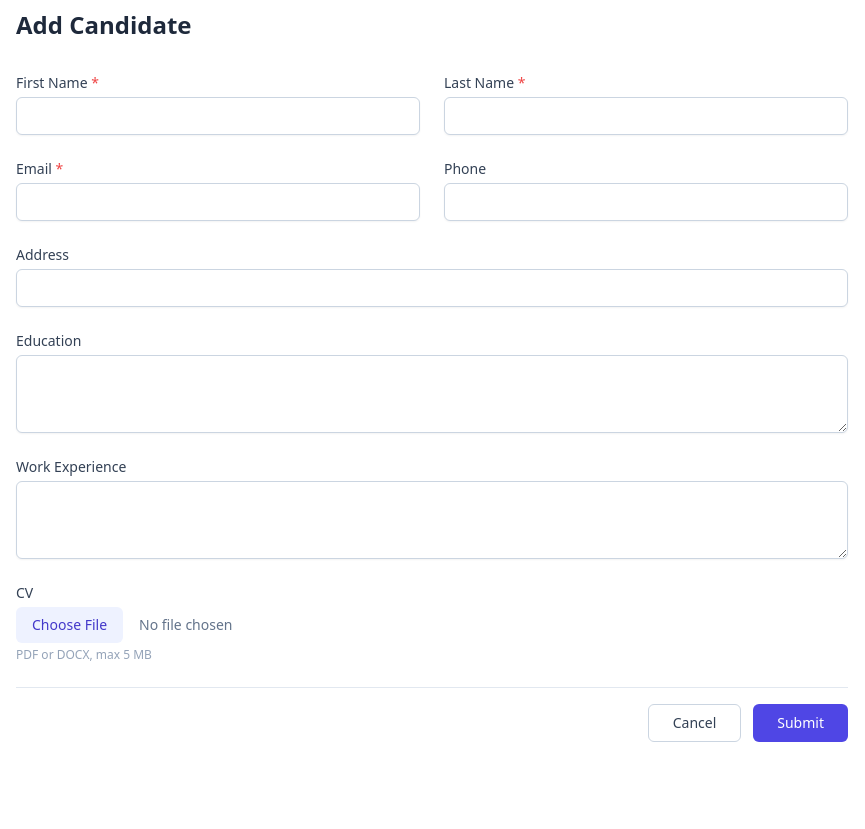
Test: AddCandidate submission › shows error message without raw details on server error
In the field labelled "First Name *": coordinates (218, 116) [16,97,420,135], type "Alice"
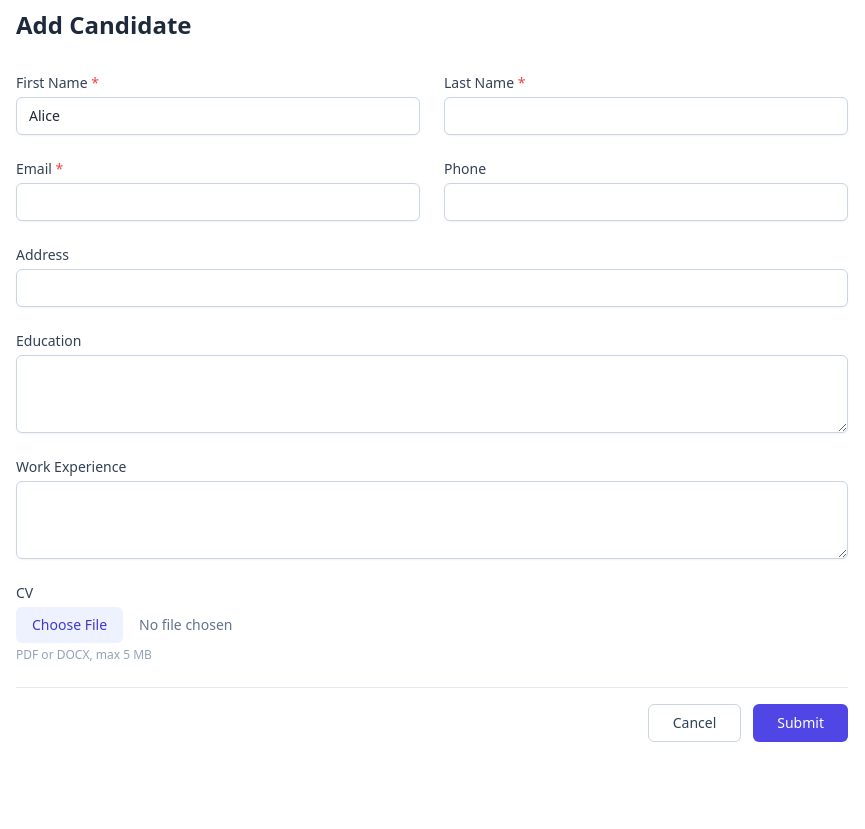
In the field labelled "Last Name *": coordinates (646, 116) [444,97,848,135], type "Smith"
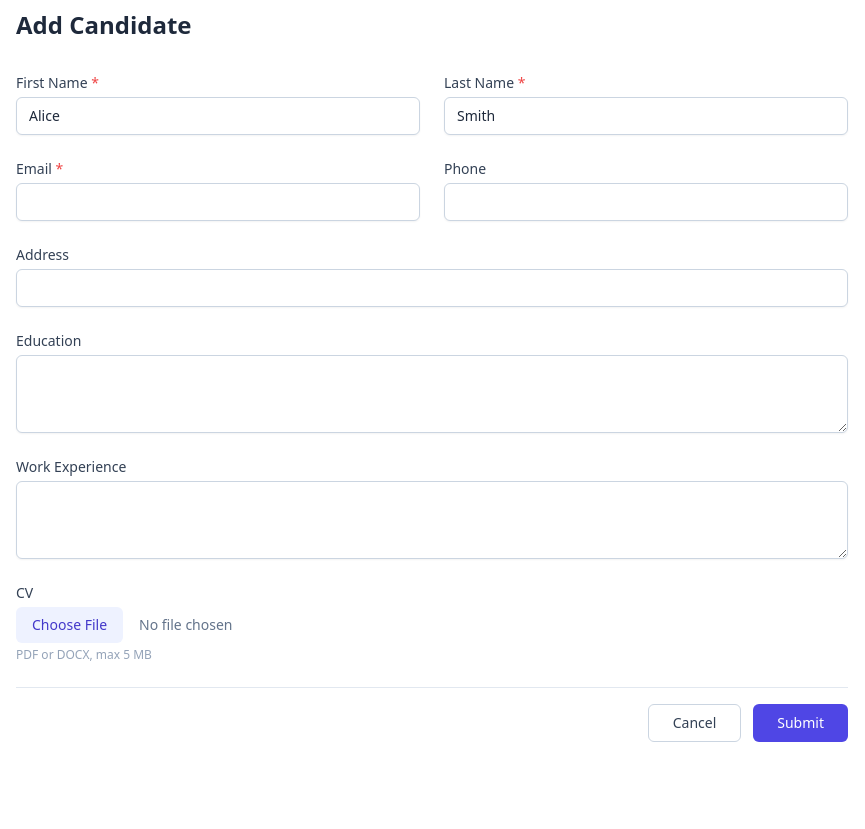
In the field labelled "Email *": coordinates (218, 202) [16,183,420,221], type "alice@example.com"
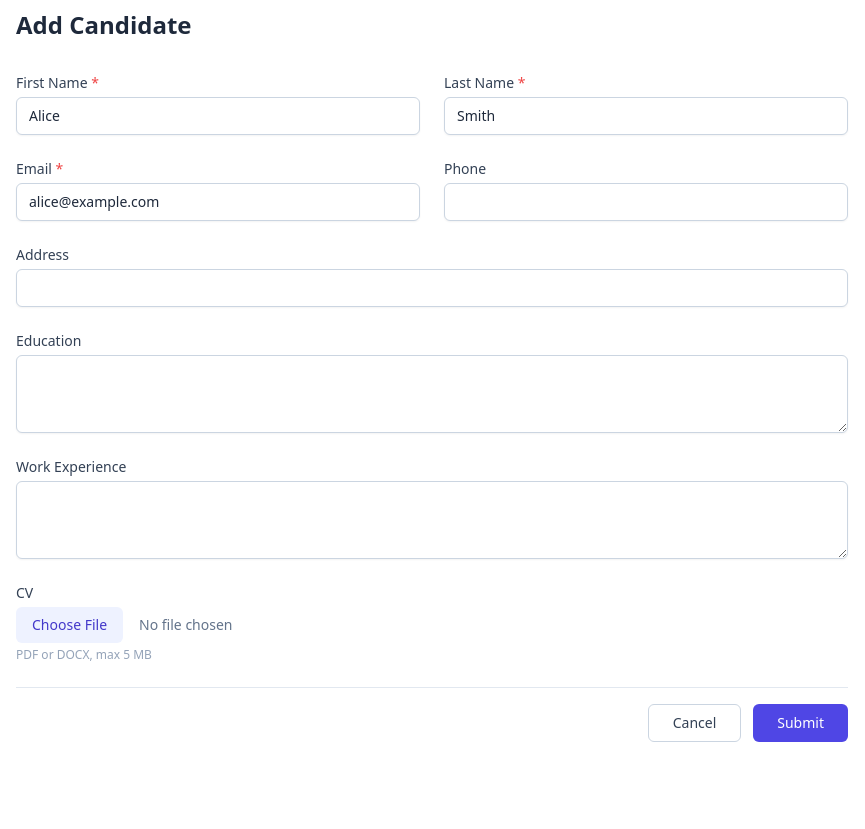
Click the button "Submit": coordinates (801, 723) [753,704,848,742]
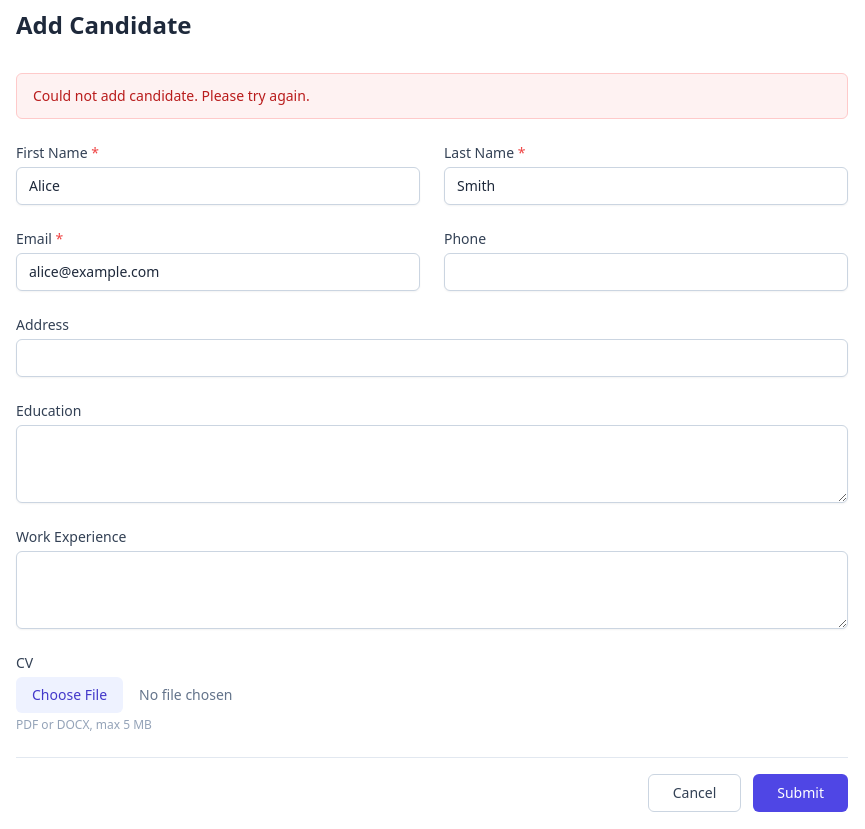
Now the text "Could not add candidate. Please try again." is shown, box [16,73,848,119]
